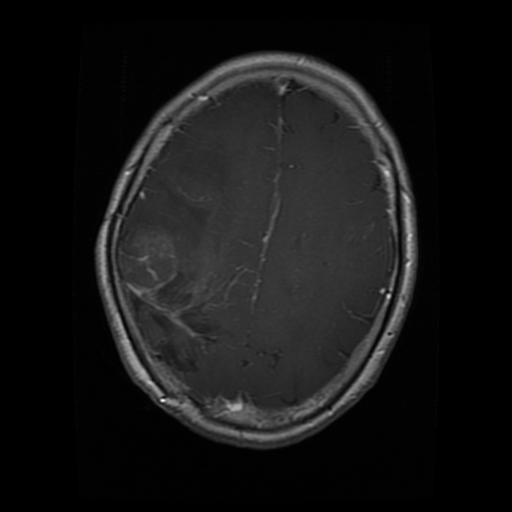Gliomia_tumour: (118, 221, 241, 372)
